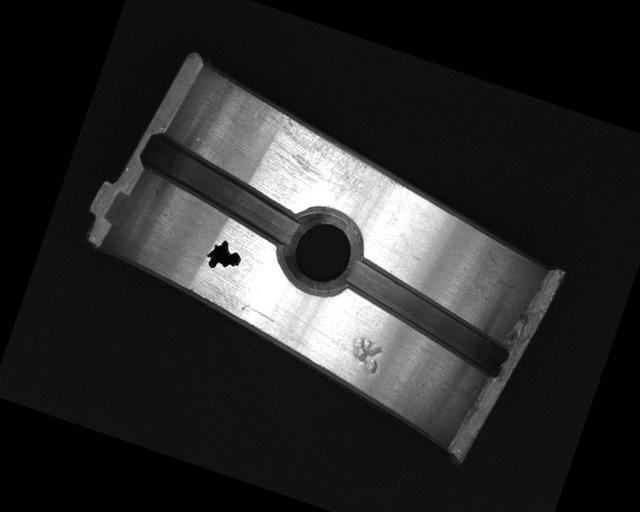blot: (201, 235, 246, 276)
bruise: (342, 333, 387, 377)
gap: (331, 253, 523, 380), (127, 129, 314, 248)
hole: (270, 197, 373, 300)
scratch: (235, 98, 407, 217)
